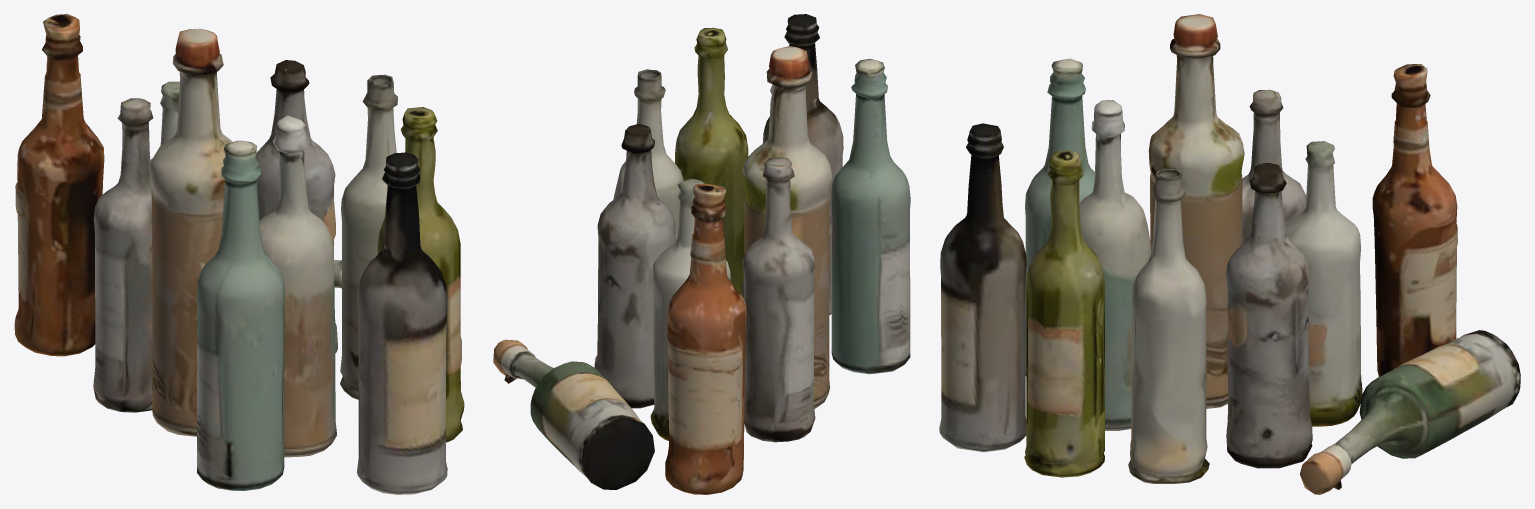
File: de_bottles.glb
3 views of the same model, side by side, from view 1: azimuth 30°, elevation 25°; view 2: azimuth 150°, elevation 25°; view 3: azimuth 270°, elevation 25° (orthographic). The views are drawn at different scales.
Visible parts, largest first — view 1: tripo_node_ebaeccd9-5f7d-4af4-b896-42aebd38f7c5; view 2: tripo_node_ebaeccd9-5f7d-4af4-b896-42aebd38f7c5; view 3: tripo_node_ebaeccd9-5f7d-4af4-b896-42aebd38f7c5.
Boxes of the visible parts, x1=… form: tripo_node_ebaeccd9-5f7d-4af4-b896-42aebd38f7c5: x1=14, y1=14, x2=464, y2=494; tripo_node_ebaeccd9-5f7d-4af4-b896-42aebd38f7c5: x1=493, y1=14, x2=910, y2=494; tripo_node_ebaeccd9-5f7d-4af4-b896-42aebd38f7c5: x1=939, y1=14, x2=1520, y2=494.
Size of the model in its own units: 0.6171 by 0.7029 by 1.
Materials: 1 (1 with a texture image).
